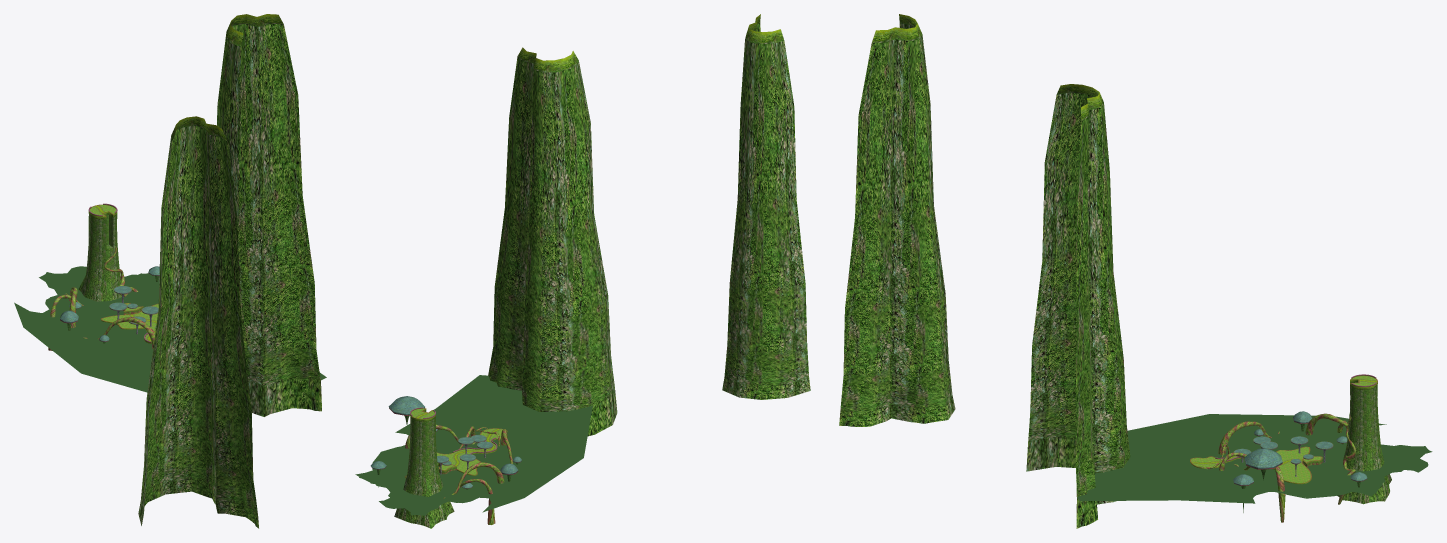
Rendered from Lost Jungle 1.fbx.
3 renders of one model, left to right at view 1: azimuth 30°, elevation 25°; view 2: azimuth 150°, elevation 25°; view 3: azimuth 270°, elevation 25°, orthographic. The views are drawn at different scales.
Parts seen in each view (by area): view 1: Object_2.001, Object_2, Object_2.002; view 2: Object_2.001, Object_2, Object_2.002; view 3: Object_2.001, Object_2, Object_2.002.
Part boxes in pixels (x1,y1,x2,y2): Object_2.001: (48, 14, 321, 528); Object_2: (14, 266, 326, 392); Object_2.002: (88, 203, 158, 343); Object_2.001: (370, 14, 810, 528); Object_2: (355, 375, 592, 515); Object_2.002: (410, 407, 507, 475); Object_2.001: (839, 14, 1391, 528); Object_2: (1077, 414, 1432, 503); Object_2.002: (1190, 374, 1377, 483).
Size of the model in its own units: 179788 by 249793 by 332690.
